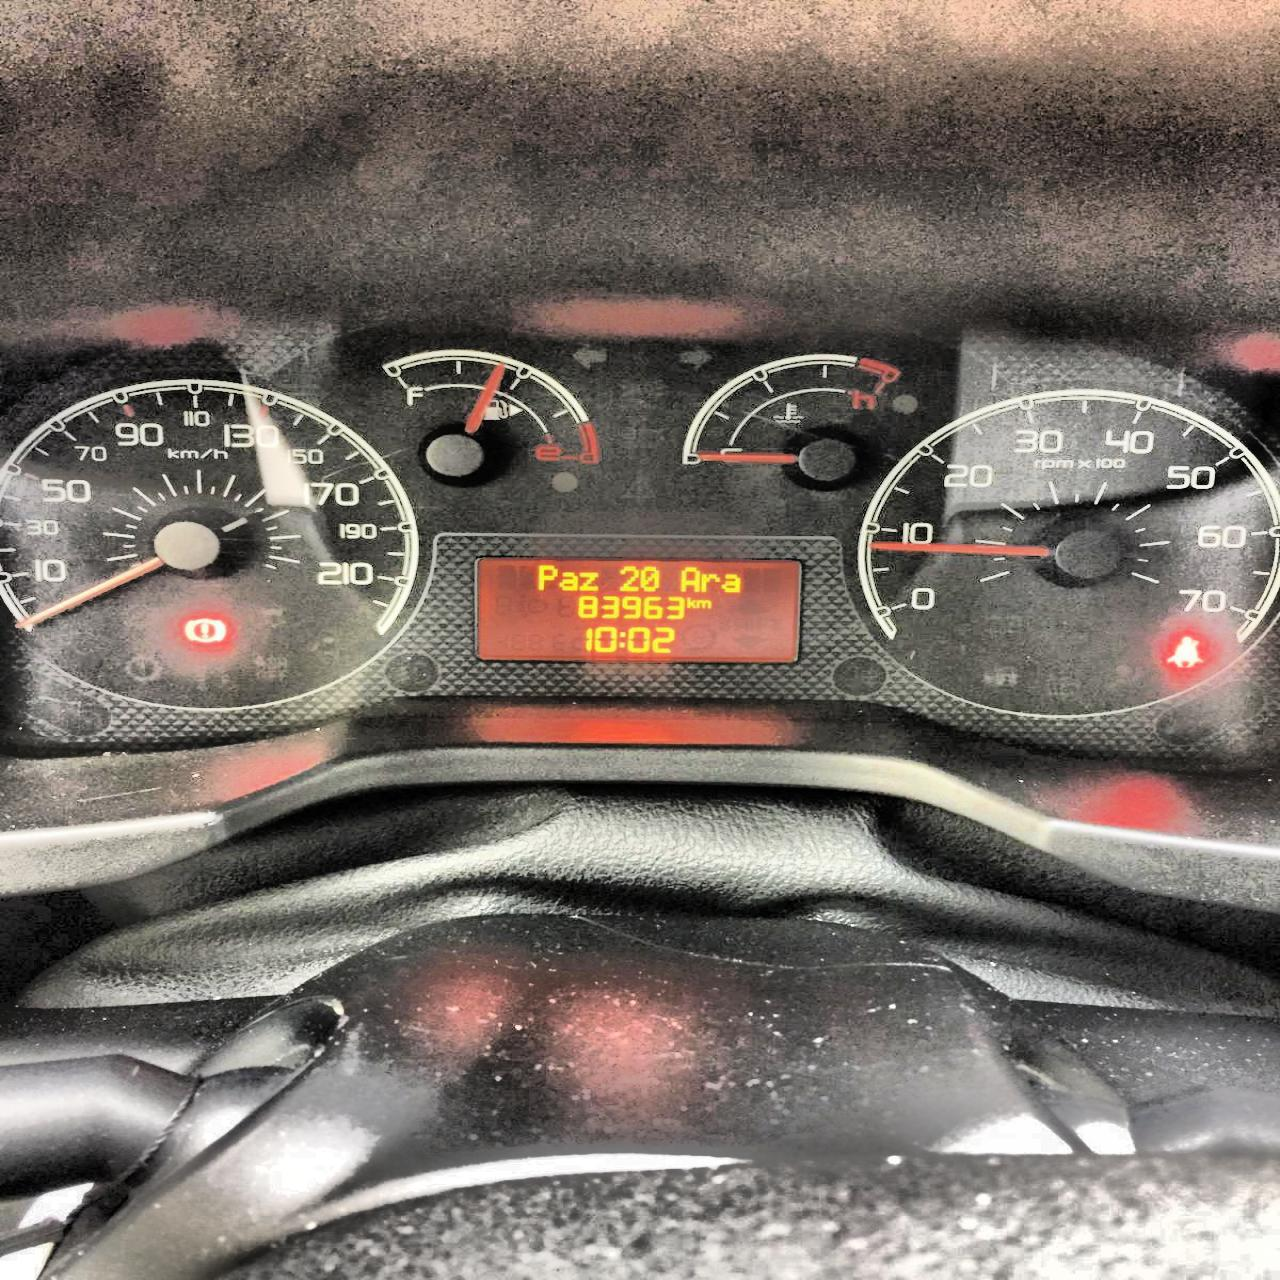0: (627, 625, 649, 655), (593, 624, 615, 652), (640, 565, 660, 591)
1: (583, 624, 594, 651)
2: (651, 625, 678, 654), (620, 564, 640, 591)
3: (600, 594, 620, 619), (667, 595, 683, 621)
6: (642, 594, 663, 620)
8: (576, 594, 598, 619)
9: (621, 594, 640, 619)
X: (680, 564, 699, 593), (536, 564, 556, 590), (577, 570, 600, 588), (721, 572, 740, 594), (558, 570, 577, 591), (699, 572, 719, 591), (695, 598, 712, 610), (618, 629, 625, 652), (685, 594, 694, 607)
odometer: (470, 552, 804, 666)
